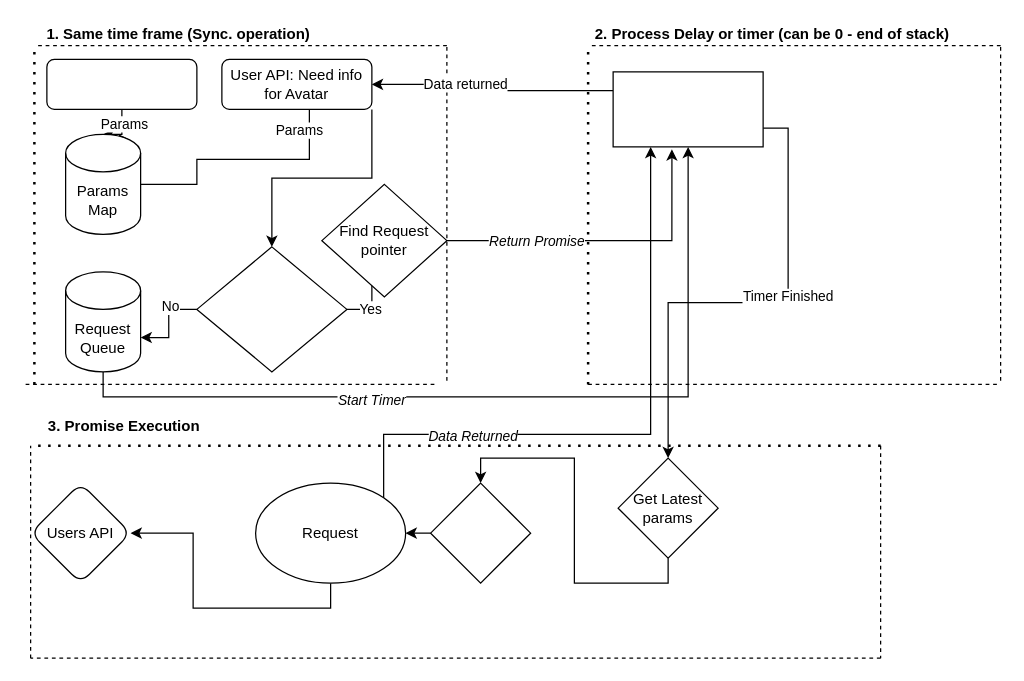
The diagram is 1024 pixels wide and 681 high, and some of its shapes have lost their labels. The box of each missing label's shape, as (x1, y1, x2, y2) in pixels:
Has Request in queue?: (196, 246, 347, 372)
Request Pointer (Promise): (612, 71, 763, 147)
Run request: (429, 482, 531, 583)
User API: Need info for Full Name: (46, 58, 197, 109)
